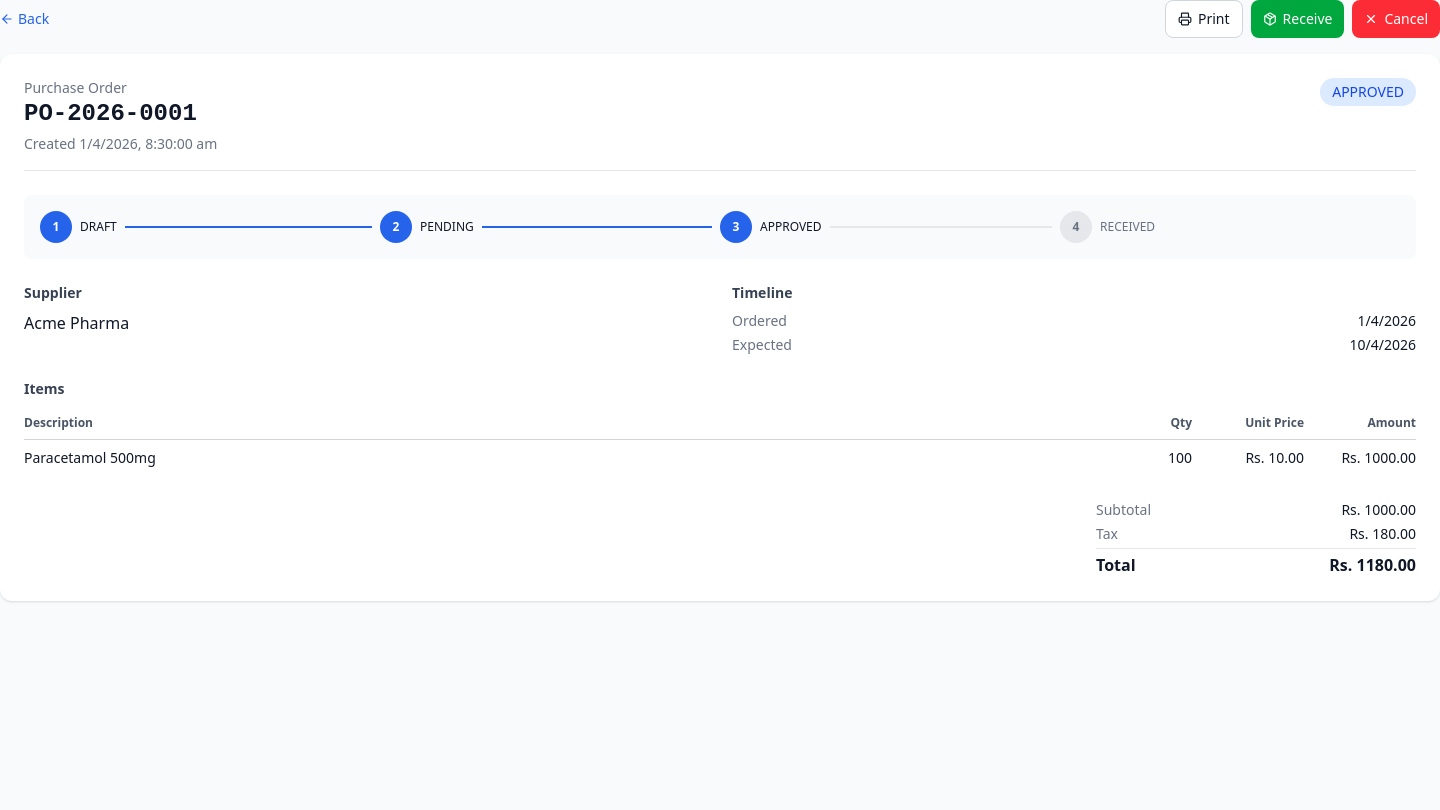
Test case: PurchaseOrderDetailPage — PO detail / status transitions / GRN › Receive modal close button (✕) dismisses without POST
The width and height of the screenshot is (1440, 810).
expect the heading "PO-2026-0001" is shown: met, box x1=24 y1=98 x2=217 y2=130
Click the button "Receive" at (1298, 19), box x1=1251 y1=0 x2=1344 y2=38
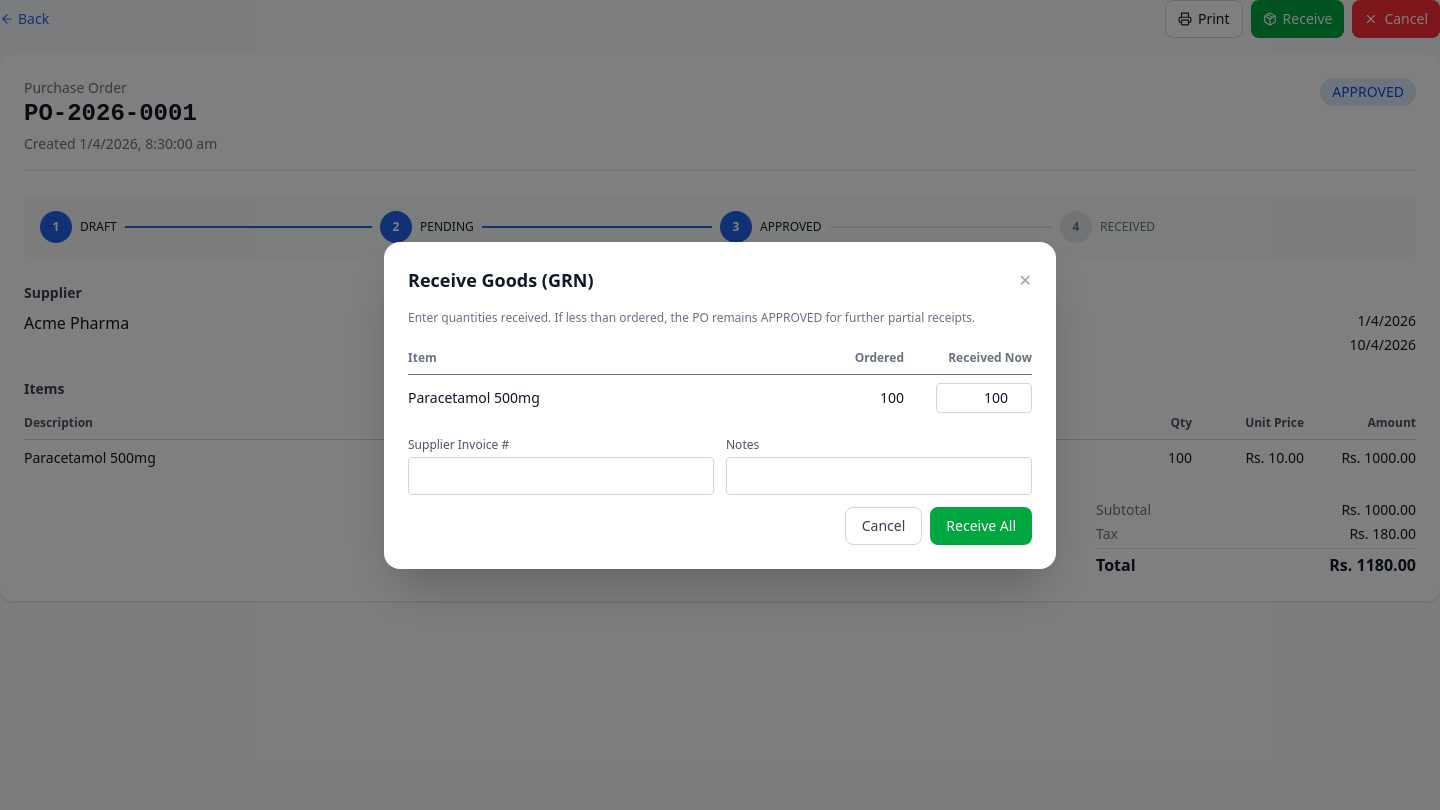
expect the heading "Receive Goods (GRN)" is shown: met, box x1=408 y1=266 x2=594 y2=294
Click the button "✕" at (1025, 280), box x1=1019 y1=268 x2=1032 y2=292
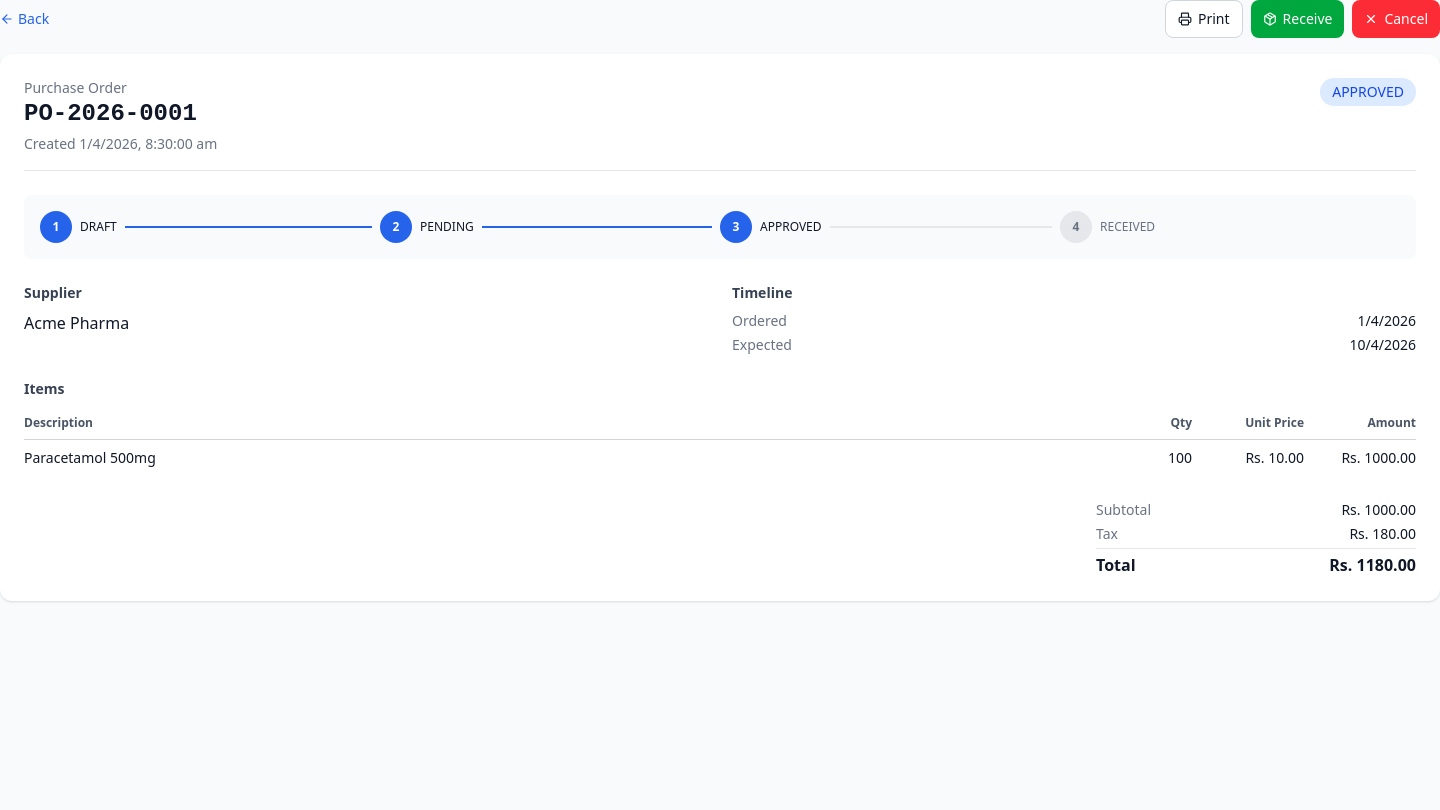
expect the heading "Receive Goods" is gone: met
